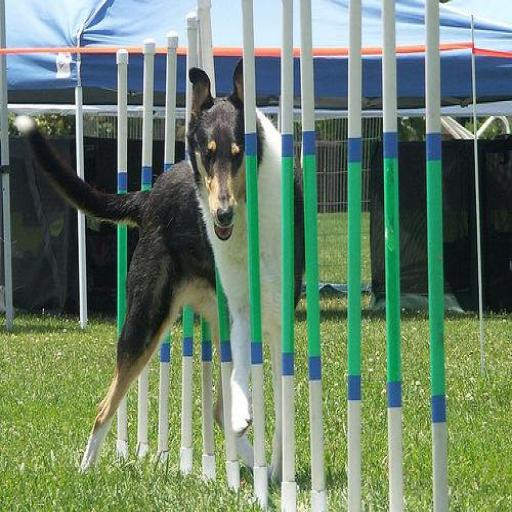dog_face: (183, 66, 264, 236)
